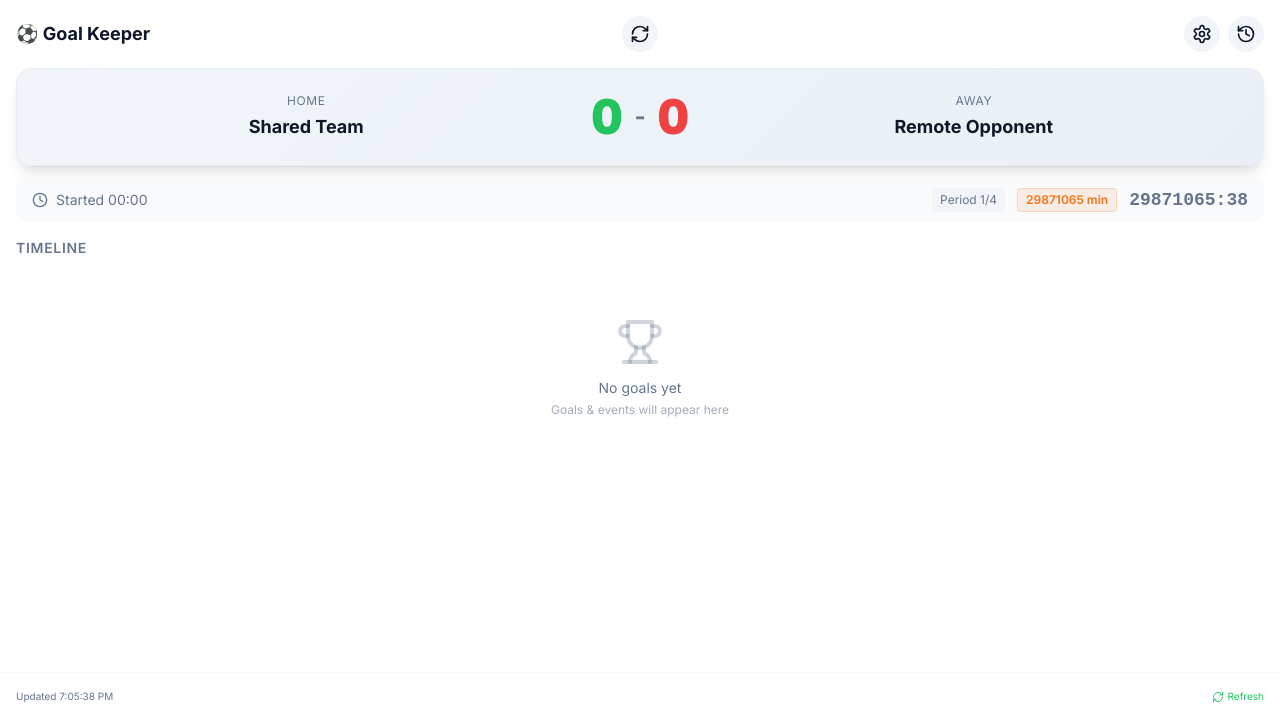
Test case: Index viewer access › returns a viewer to home when the editor ends the active match
This screenshot has width=1280, height=720.
Expected: the heading "⚽ Goal Keeper" is shown, [16,20,150,48]
Click the button named "Sync match" at (640, 34), box [622,16,658,52]
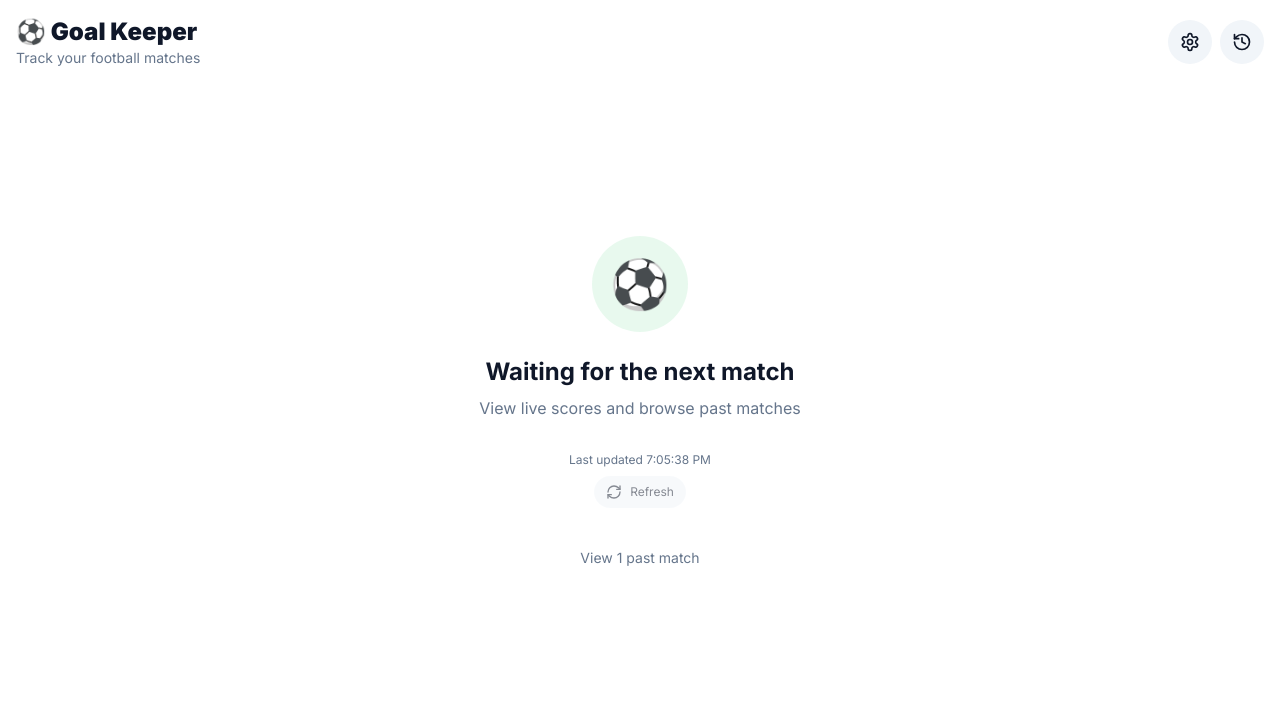
Expected: the button "Refresh" is shown, [594,476,686,508]
Expected: the heading "Waiting for the next match" is shown, [479,356,801,388]
